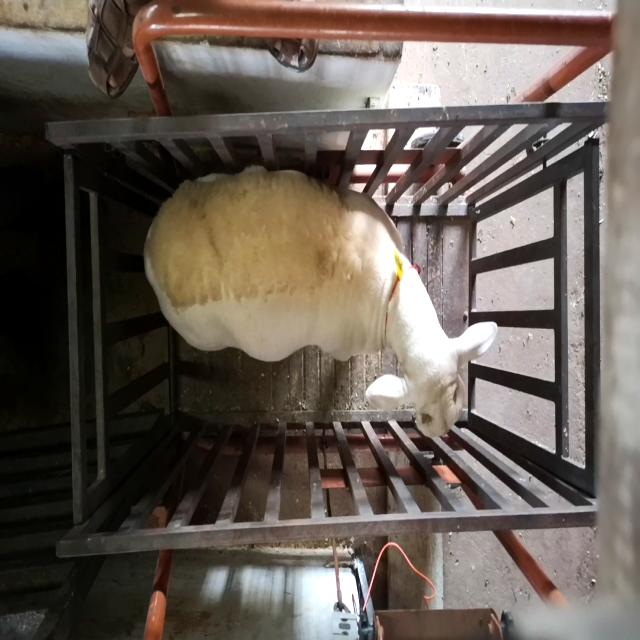sheep: (142, 167, 498, 438)
